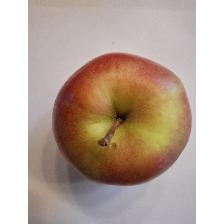Apfel: (48, 46, 196, 190)
